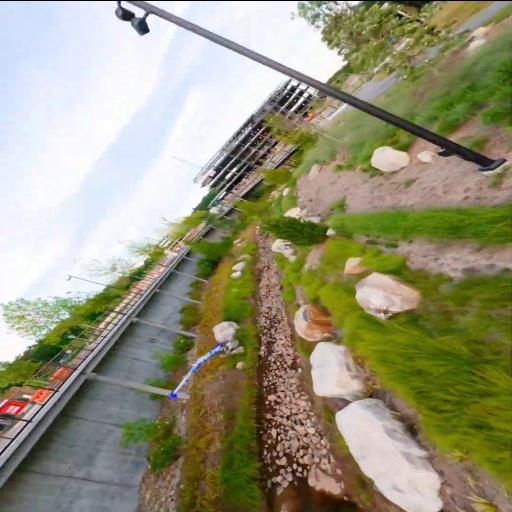uav: (160, 337, 234, 401)
